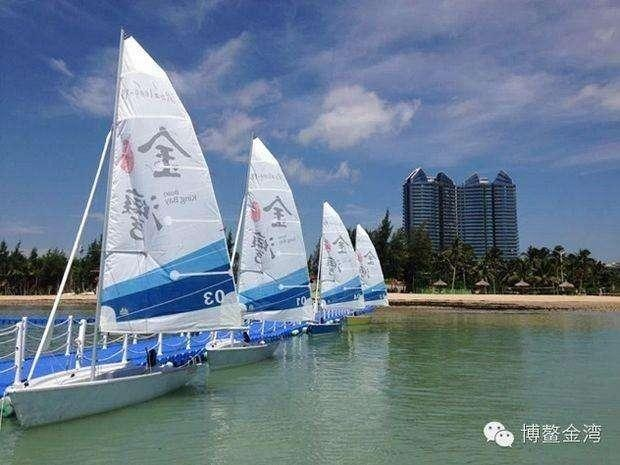fanchuan: (7, 25, 244, 428), (206, 132, 319, 374)
